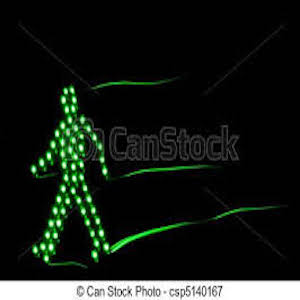green: (21, 81, 121, 256)
